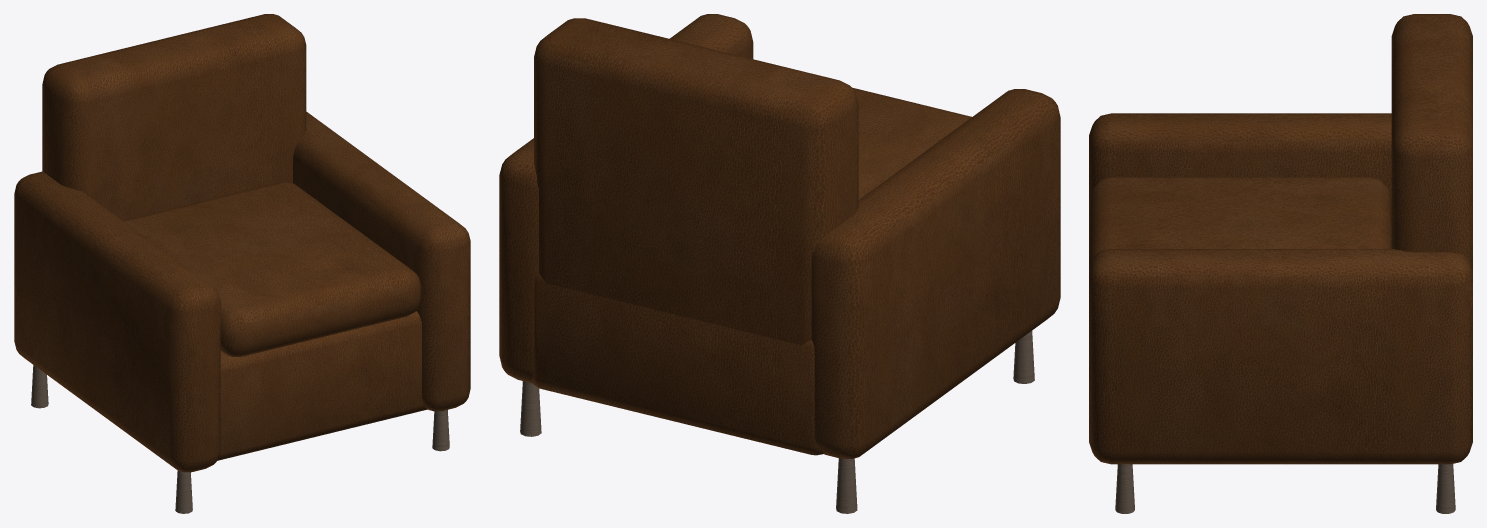
File: armchair.fbx
The picture shows the model from 3 angles, left to right: view 1: azimuth 30°, elevation 25°; view 2: azimuth 150°, elevation 25°; view 3: azimuth 270°, elevation 25°; orthographic projection. The views are drawn at different scales.
Parts seen in each view (by area): view 1: armchair; view 2: armchair; view 3: armchair.
Boxes of the visible parts, box(x1,y1,x2,y2) form: armchair: box(14, 14, 470, 513); armchair: box(499, 14, 1060, 513); armchair: box(1089, 14, 1472, 513).
Size of what is drawn, in the model's own units: 85 by 90 by 85.
Materials: 2 (2 with a texture image).
